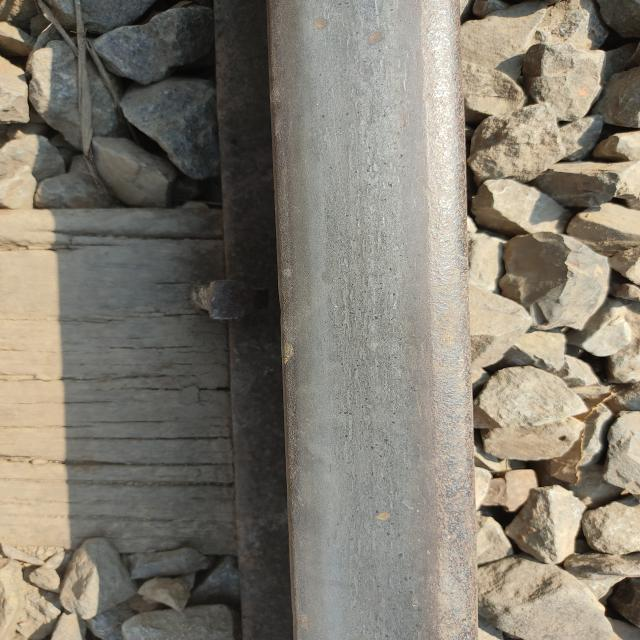non-defective: (177, 105, 617, 620)
